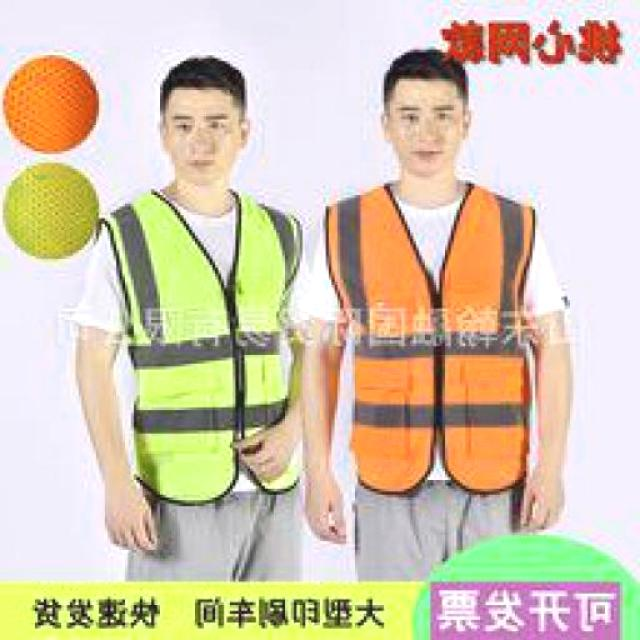face_nomask: (391, 96, 465, 170), (169, 109, 233, 172)
hand_noglove: (100, 482, 169, 558), (230, 419, 300, 487), (513, 462, 569, 536), (299, 478, 355, 550)
head_nohelmet: (378, 42, 472, 102), (157, 52, 253, 108)
person: (299, 37, 579, 578), (74, 33, 325, 575)
vest: (334, 180, 550, 495), (110, 187, 306, 498)
